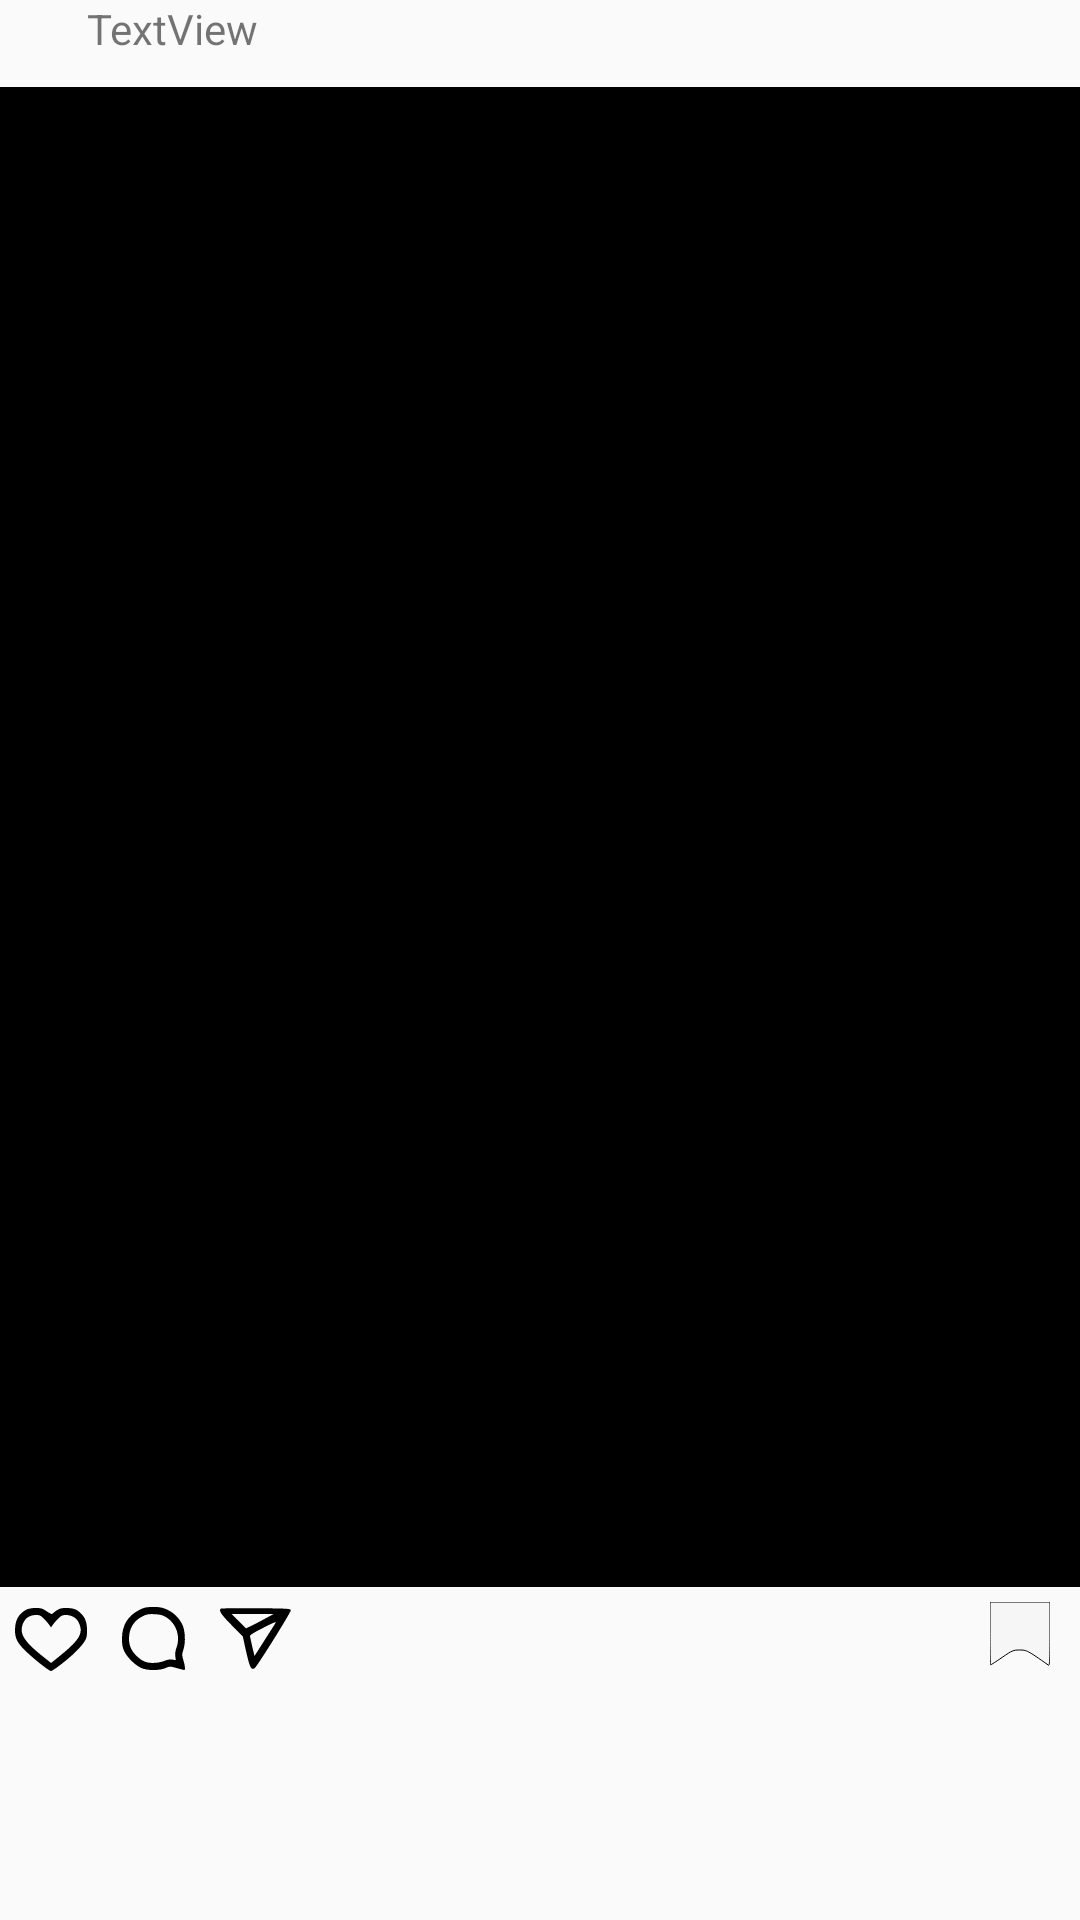

Icon bounding boxes for this 1080×1920 phone screenshot, format (x1, y1, x2, y2):
direct: (220, 1608, 291, 1669)
ufi comment: (122, 1607, 185, 1670)
ufi heart: (15, 1608, 87, 1671)
ufi save: (990, 1602, 1050, 1666)
